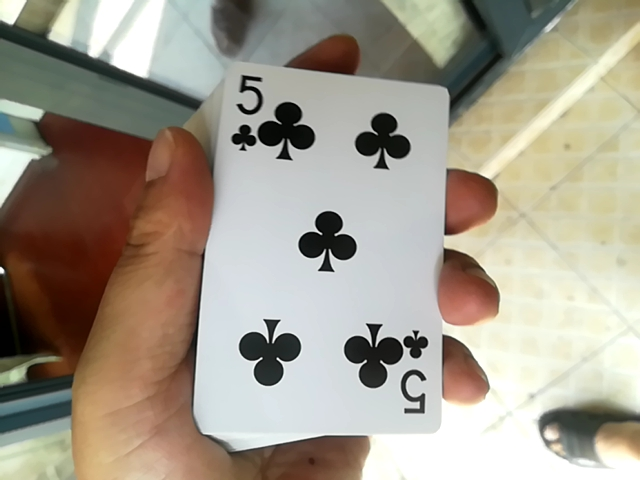mh 5: (194, 46, 451, 457)
